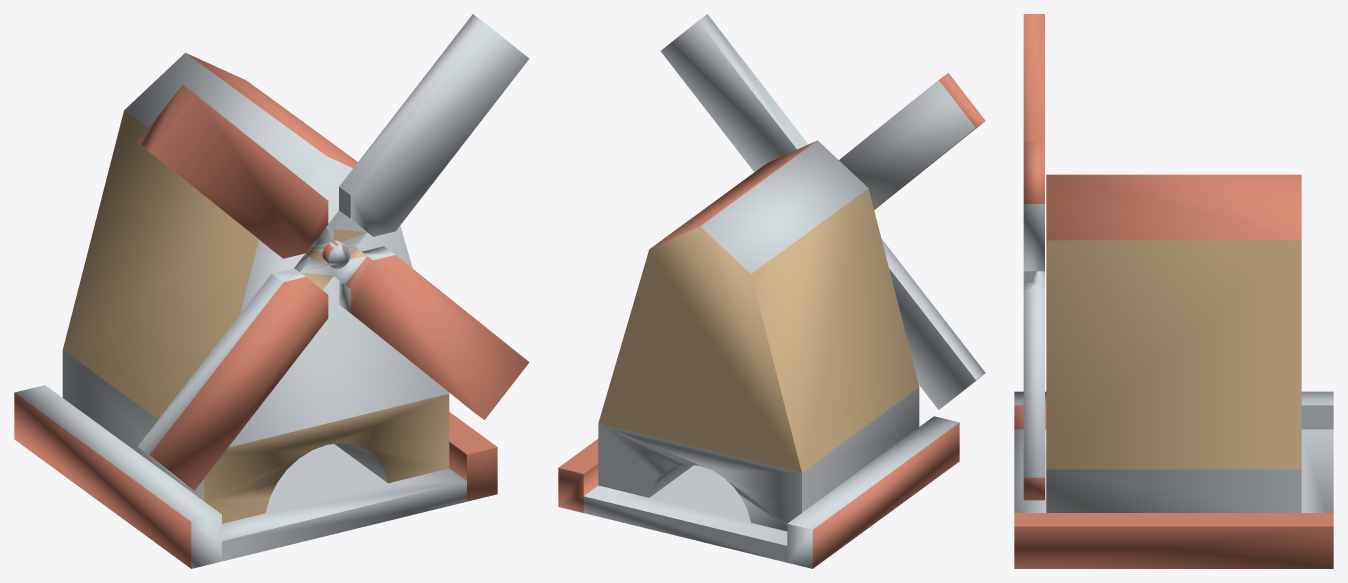
File: WINDMILL.fbx
3 renders of one model, left to right at view 1: azimuth 30°, elevation 25°; view 2: azimuth 150°, elevation 25°; view 3: azimuth 270°, elevation 25°, orthographic. The views are drawn at different scales.
Parts seen in each view (by area): view 1: Windmill_01, Windmill_blades_01; view 2: Windmill_01, Windmill_blades_01; view 3: Windmill_01, Windmill_blades_01.
Part boxes in pixels (x1,y1,x2,y2): Windmill_01: (14,53,497,568); Windmill_blades_01: (138,14,529,490); Windmill_01: (558,140,959,568); Windmill_blades_01: (660,14,985,409); Windmill_01: (1014,174,1333,568); Windmill_blades_01: (1023,14,1044,500).
Size of the model in its own units: 372 by 439 by 300.
